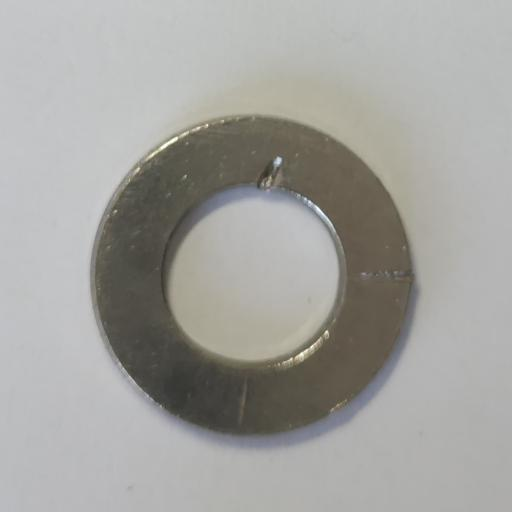scratch: (257, 156, 282, 190), (360, 269, 415, 281), (237, 378, 248, 425)
